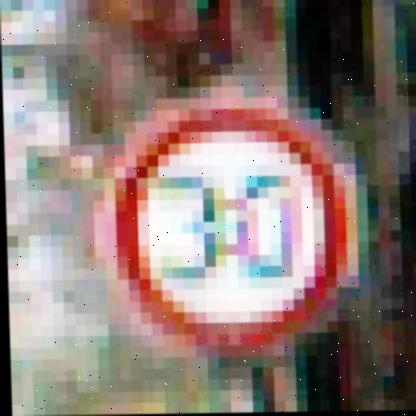Speed Limit -30-: (100, 94, 367, 360)
